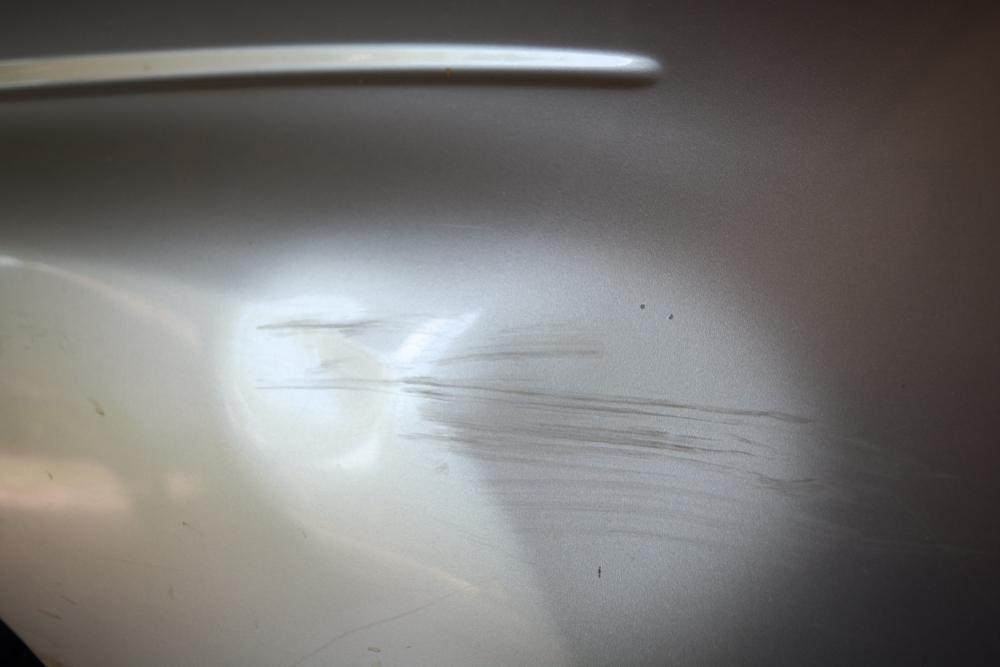dent: (222, 223, 791, 643)
